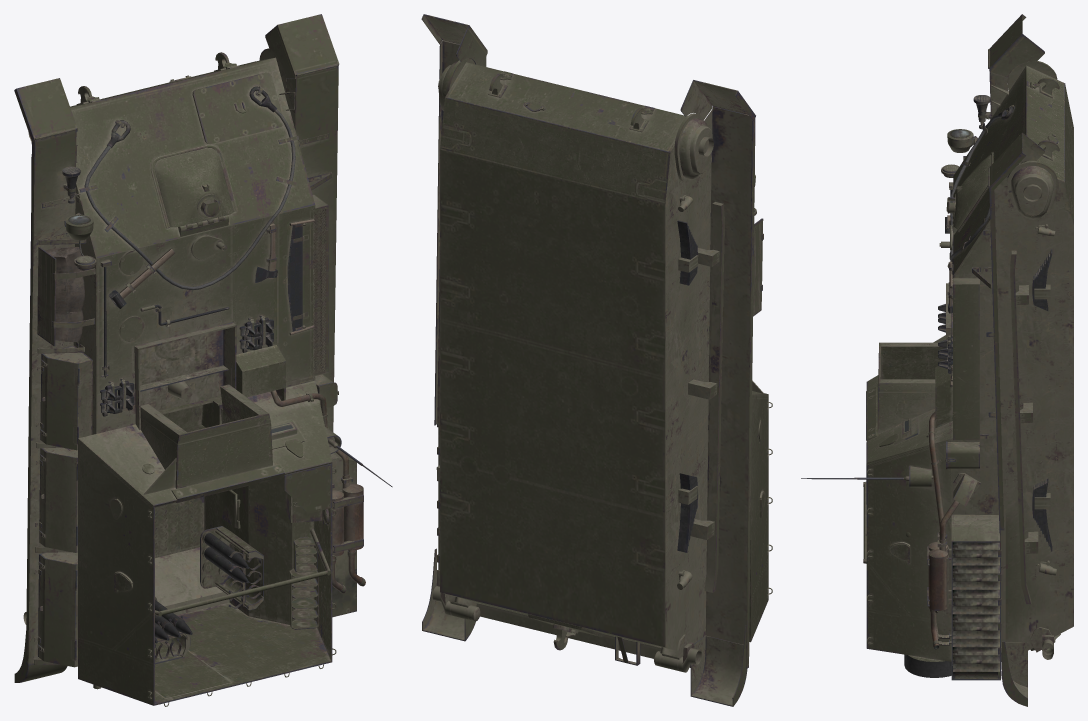
The model's file is Hull.glb.
The picture shows the model from 3 angles, left to right: view 1: azimuth 30°, elevation 25°; view 2: azimuth 150°, elevation 25°; view 3: azimuth 270°, elevation 25°; orthographic projection. The views are drawn at different scales.
Parts seen in each view (by area): view 1: set_0_group_0; view 2: set_0_group_0; view 3: set_0_group_0.
Part boxes in pixels (left/top/right/bottom): set_0_group_0: left=14, top=14, right=392, bottom=706; set_0_group_0: left=421, top=14, right=772, bottom=706; set_0_group_0: left=801, top=14, right=1073, bottom=706.
Bounding box in the file's own units: 2.8 × 5.23 × 2.33.
1 material, 1 textured.
